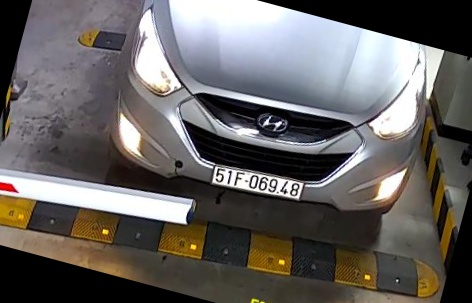plate: (213, 163, 308, 205)
